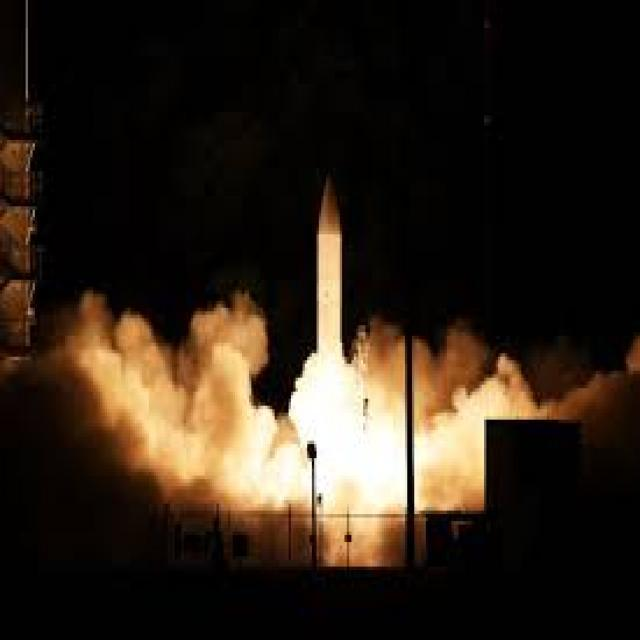missile: (312, 179, 346, 368)
